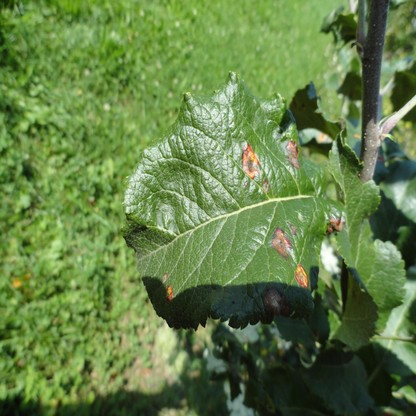rust: (274, 228, 292, 257), (242, 145, 258, 177), (286, 141, 299, 168), (294, 265, 308, 286), (164, 286, 172, 303), (317, 133, 327, 142), (290, 224, 297, 235), (162, 272, 168, 282), (353, 133, 361, 138)
